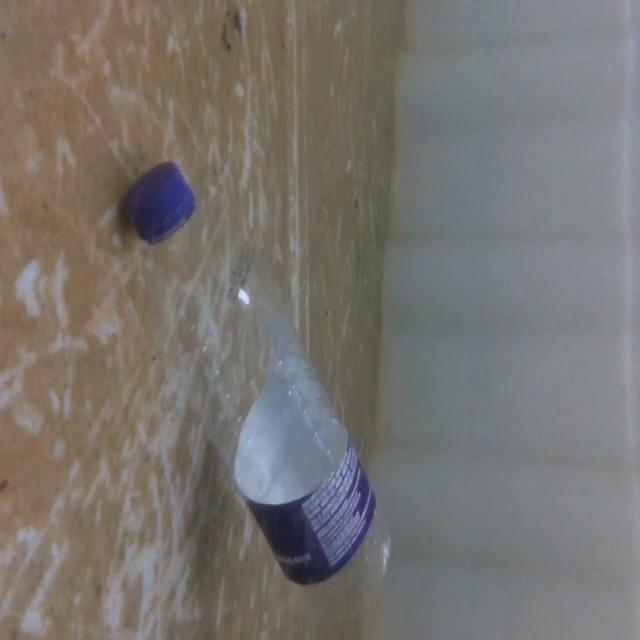plastic bottle: (112, 157, 405, 610)
